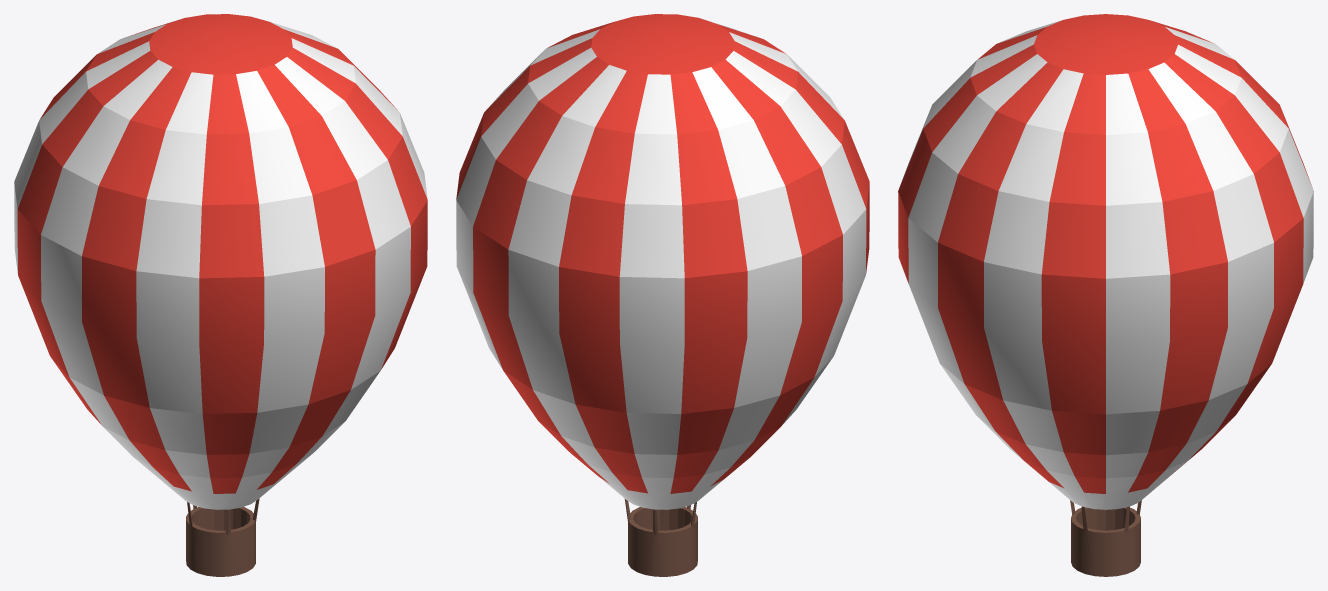
Rendered from balloon.glb.
3 views of the same model, side by side, from view 1: azimuth 30°, elevation 25°; view 2: azimuth 150°, elevation 25°; view 3: azimuth 270°, elevation 25° (orthographic).
Parts seen in each view (by area): view 1: pSphere16; view 2: pSphere16; view 3: pSphere16.
Boxes of the visible parts, x1,y1,x2,y2 form: pSphere16: (14, 14, 427, 576); pSphere16: (456, 14, 869, 576); pSphere16: (898, 14, 1313, 576).
Size of the model in its own units: 31.05 by 43.61 by 31.05.
